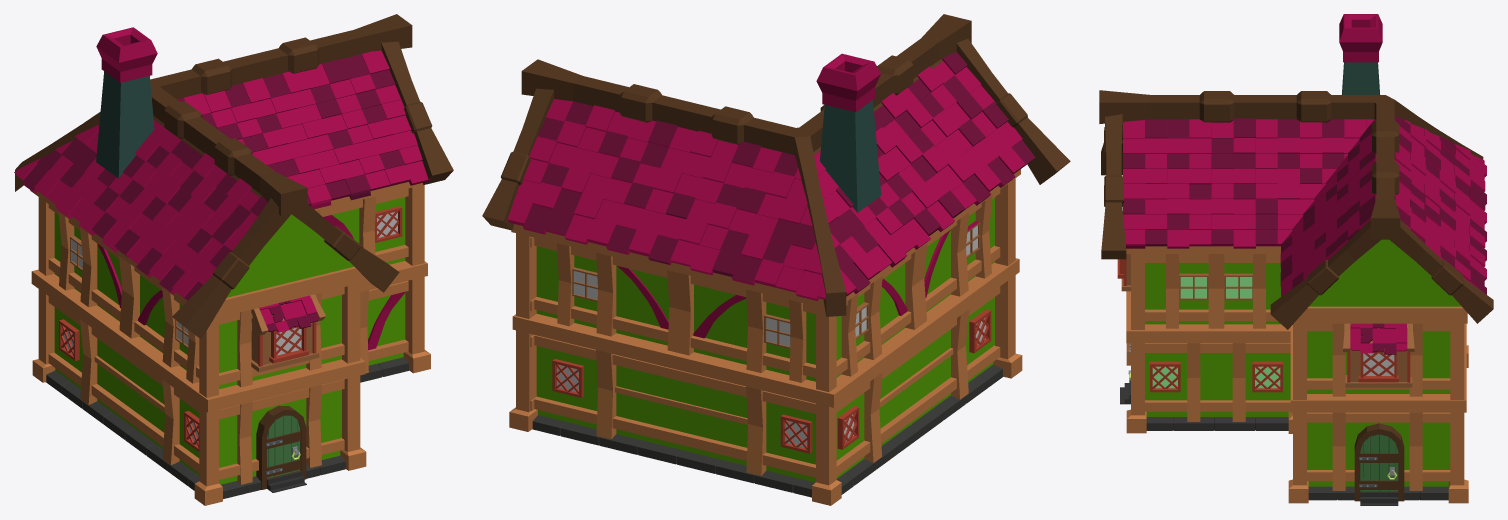
File: SM_Hous_19_A.gltf
3 views of the same model, side by side, from view 1: azimuth 30°, elevation 25°; view 2: azimuth 150°, elevation 25°; view 3: azimuth 270°, elevation 25° (orthographic). The views are drawn at different scales.
Visible parts, largest first — view 1: SM_Hous_19_A; view 2: SM_Hous_19_A; view 3: SM_Hous_19_A.
Boxes of the visible parts, x1,y1,x2,y2 form: SM_Hous_19_A: (14,14,453,505); SM_Hous_19_A: (482,14,1070,505); SM_Hous_19_A: (1099,14,1493,505).
Bounding box in the file's own units: 13.19 × 12.71 × 12.72.
